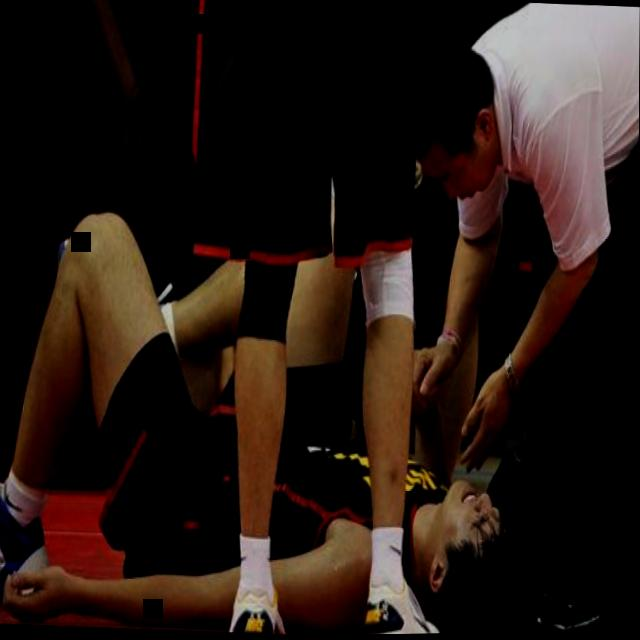Fall-Detected: (0, 206, 564, 640)
